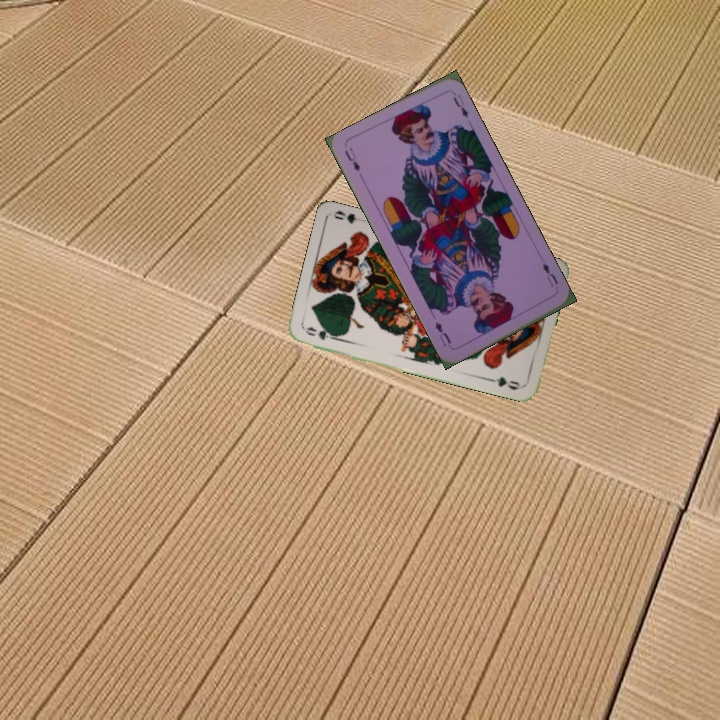EU: (538, 258, 561, 289), (340, 144, 363, 174)
GO: (301, 323, 342, 343)
